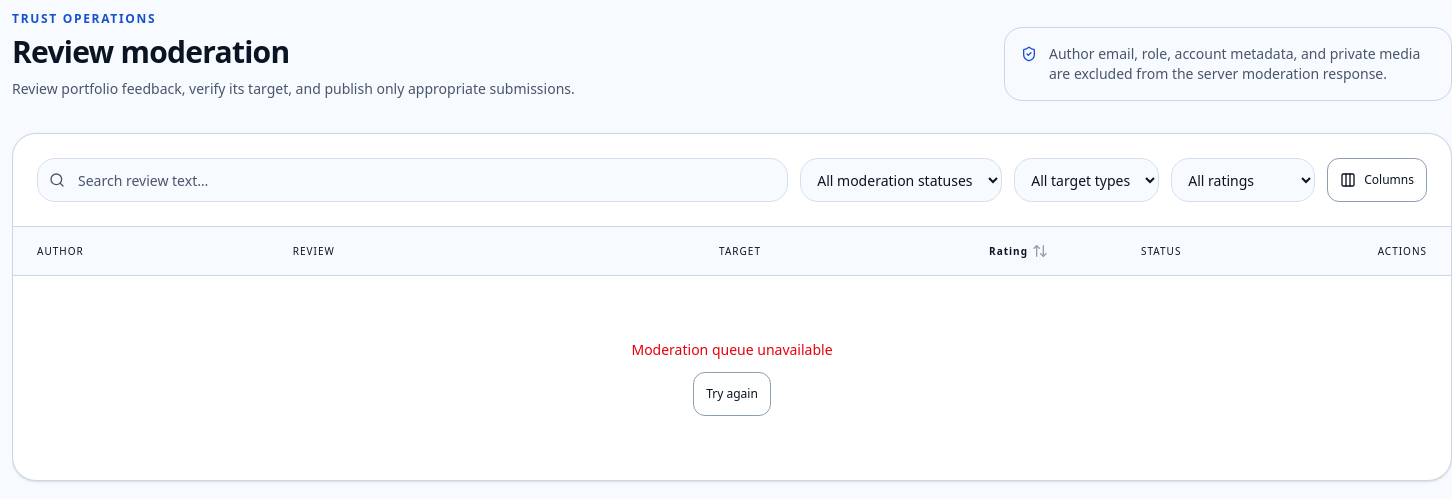
Test: review moderation workspace › renders a retryable queue error
This screenshot has width=1452, height=499.
Expected: the message shows "Moderation queue unavailable", [631,340,832,359]
Click the button "Try again" at (732, 394), box [693,372,771,416]
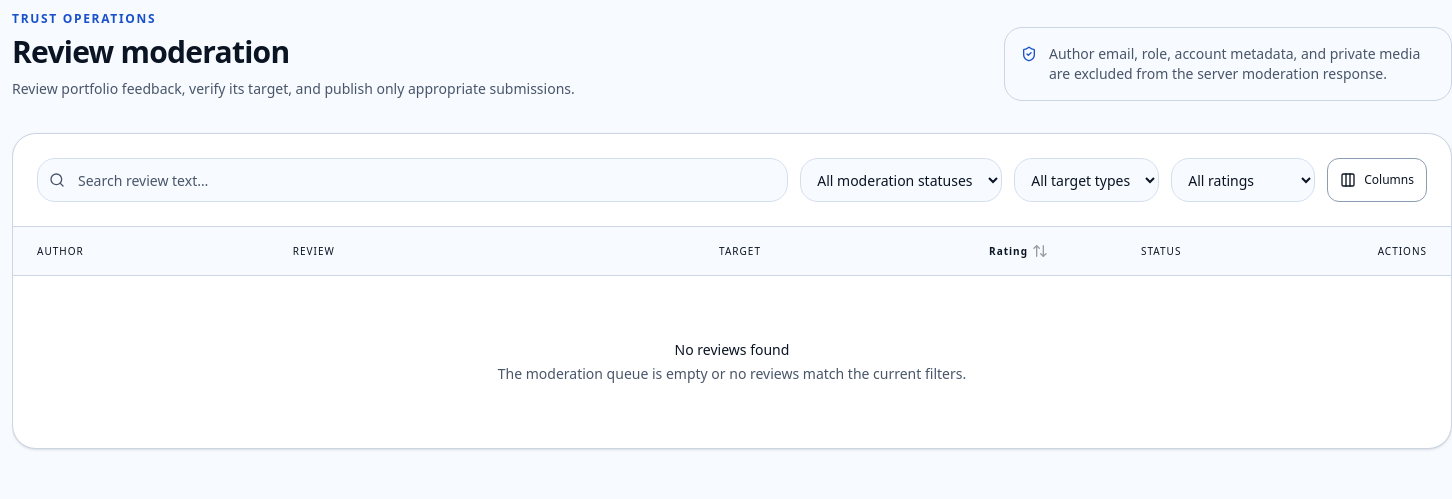
Result: the text "No reviews found" is shown at [675,340,789,360]
